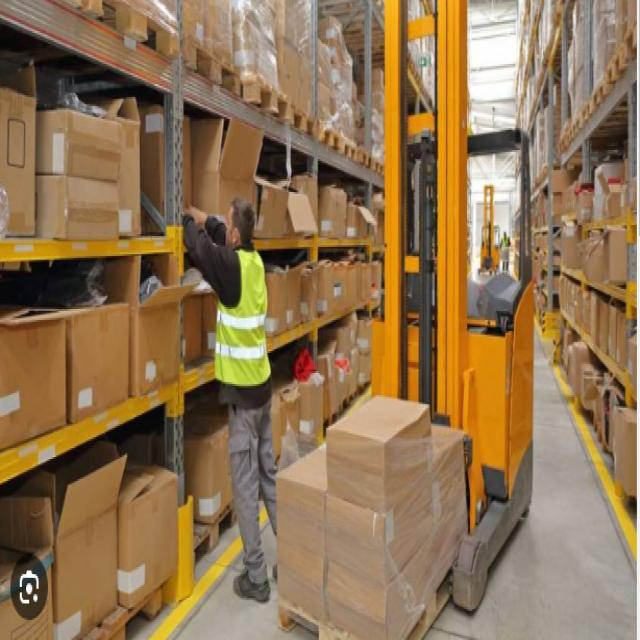shoes: (228, 547, 314, 607)
vest: (213, 250, 274, 392)
